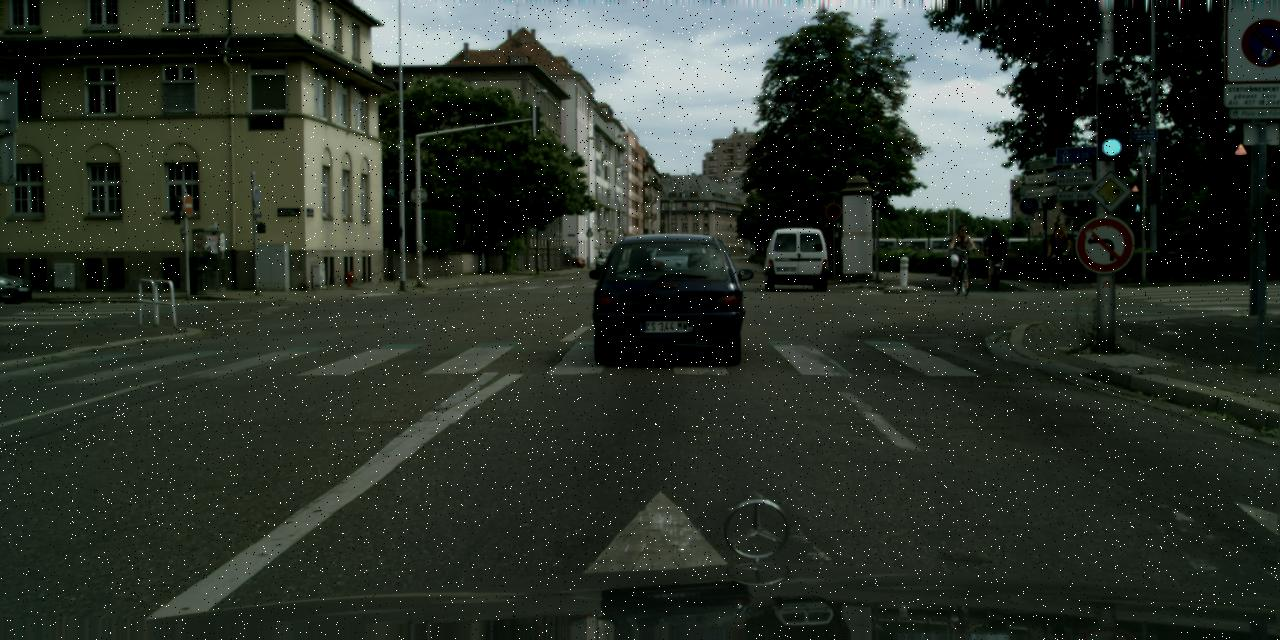ped: (949, 224, 974, 285), (984, 228, 1006, 283), (1048, 224, 1070, 278)
